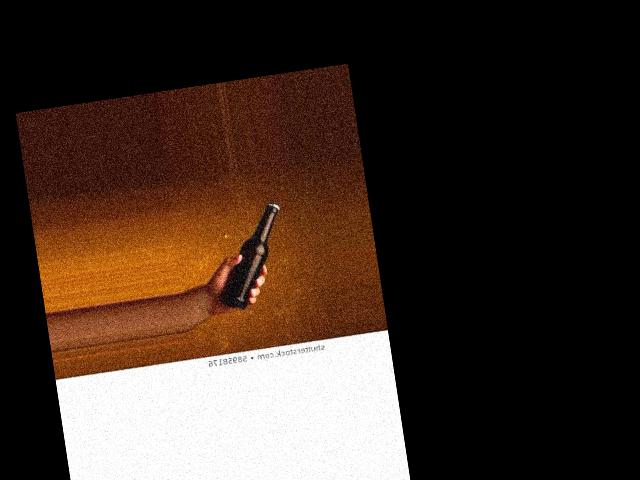beer: (204, 200, 294, 313)
